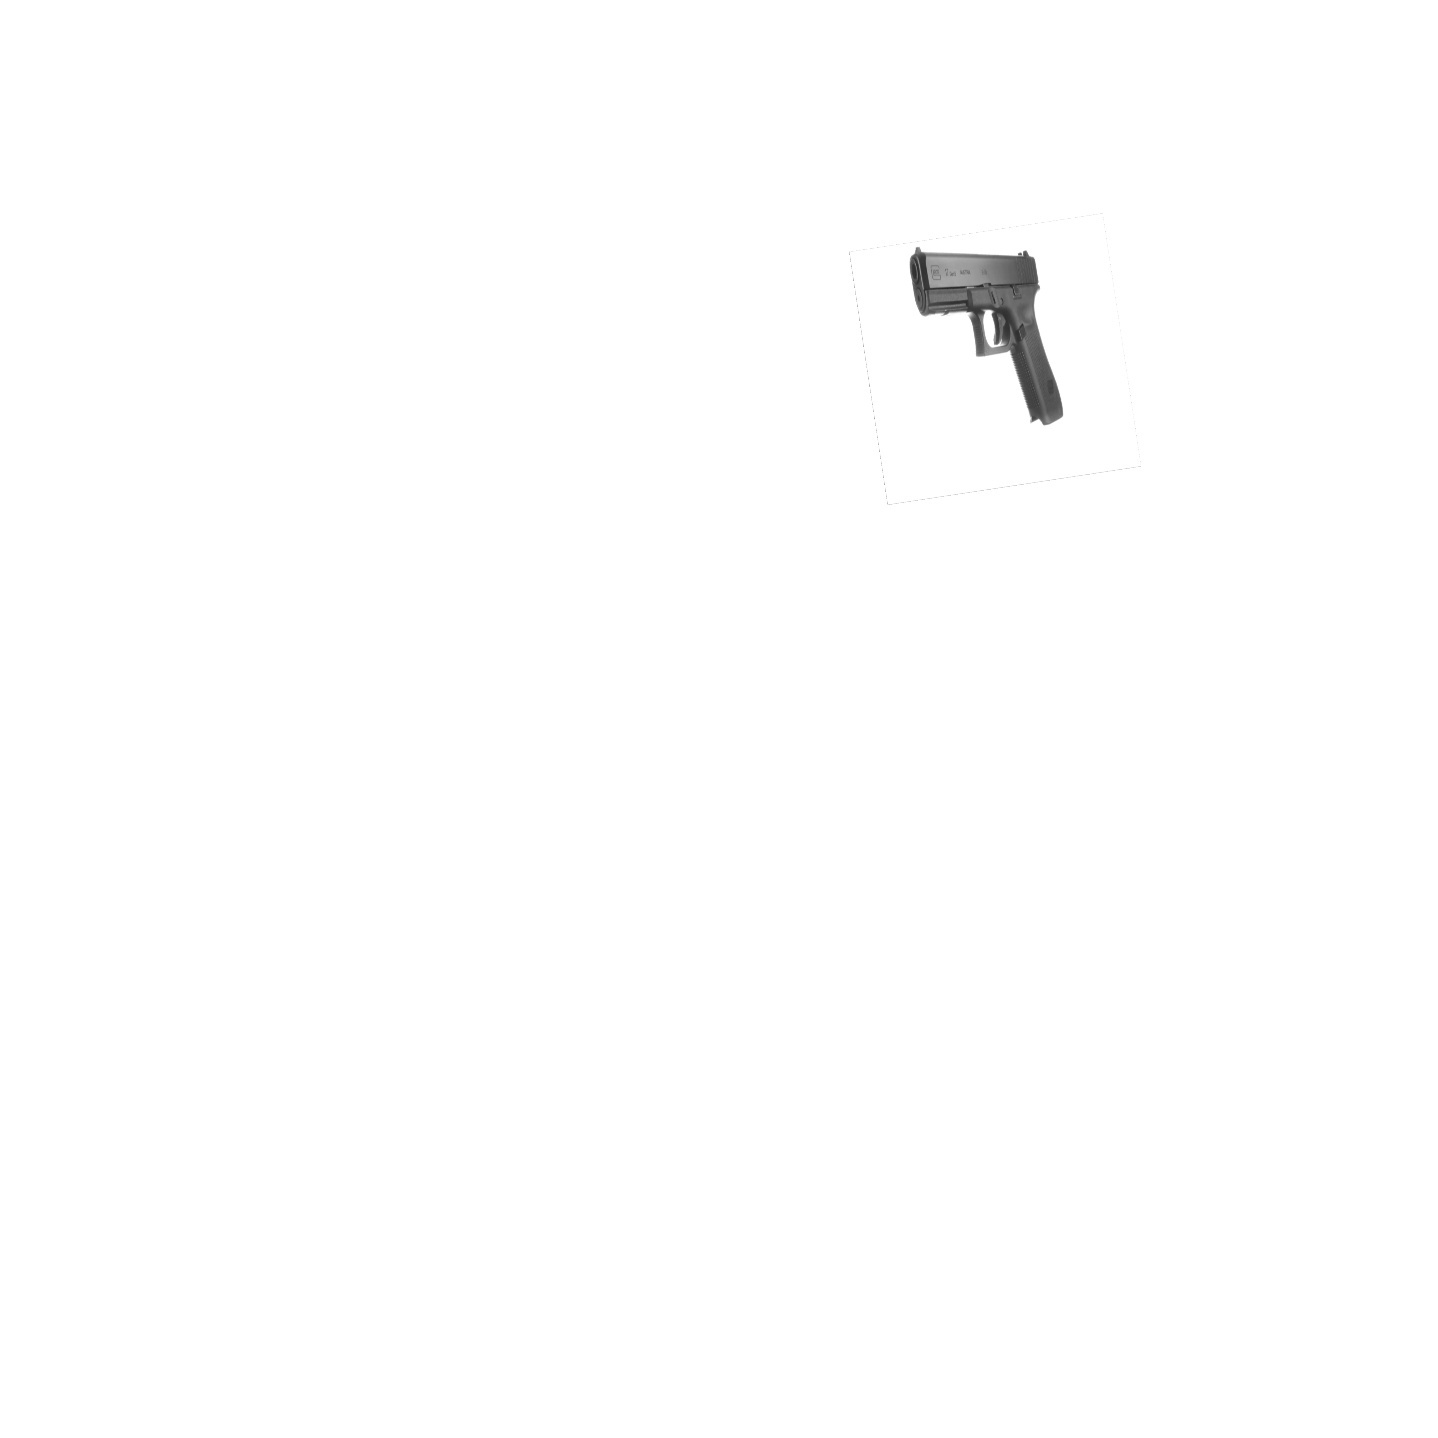gun: (903, 240, 1075, 431)
